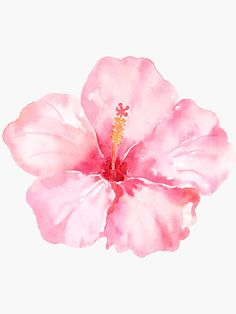Hibiscus: (8, 62, 234, 258)
